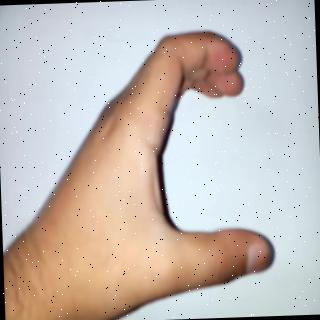C: (51, 29, 284, 292)
